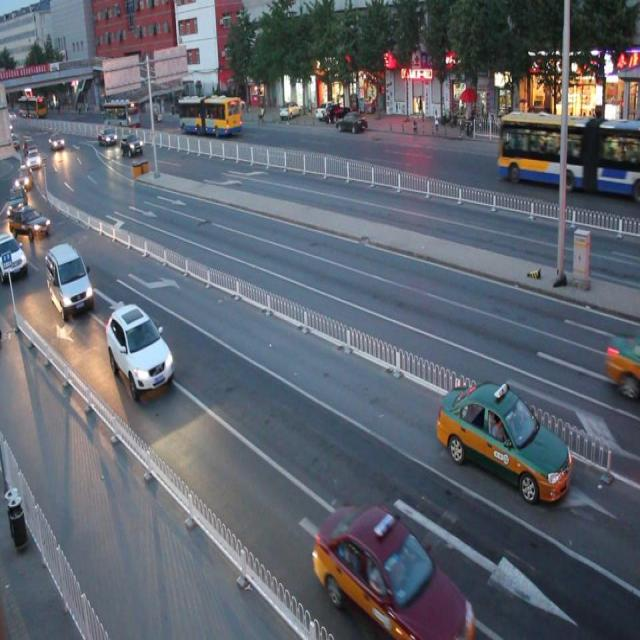car: (314, 501, 474, 640), (438, 379, 572, 504), (105, 301, 175, 399), (45, 240, 94, 321)
van: (496, 109, 640, 202)
